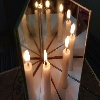fire: (44, 48, 48, 62)
